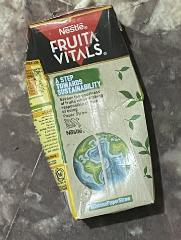paper: (24, 4, 156, 220)
